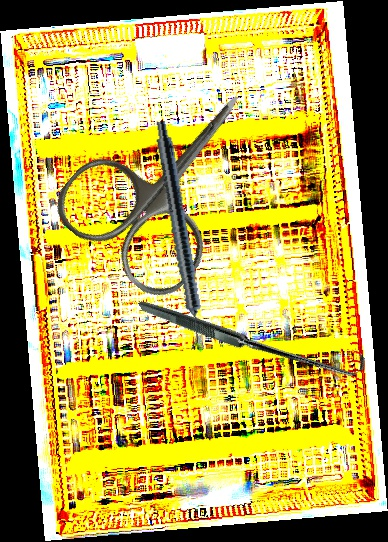Handpiece: (148, 119, 210, 351)
Hook Surgical: (138, 217, 369, 452)
Iris Scissors: (44, 48, 298, 309)
